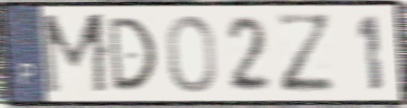1: (356, 13, 387, 94)
2: (226, 13, 274, 94)
D: (105, 14, 159, 94)
M: (39, 11, 112, 98)
O: (165, 13, 219, 96)
Z: (273, 11, 338, 96)
